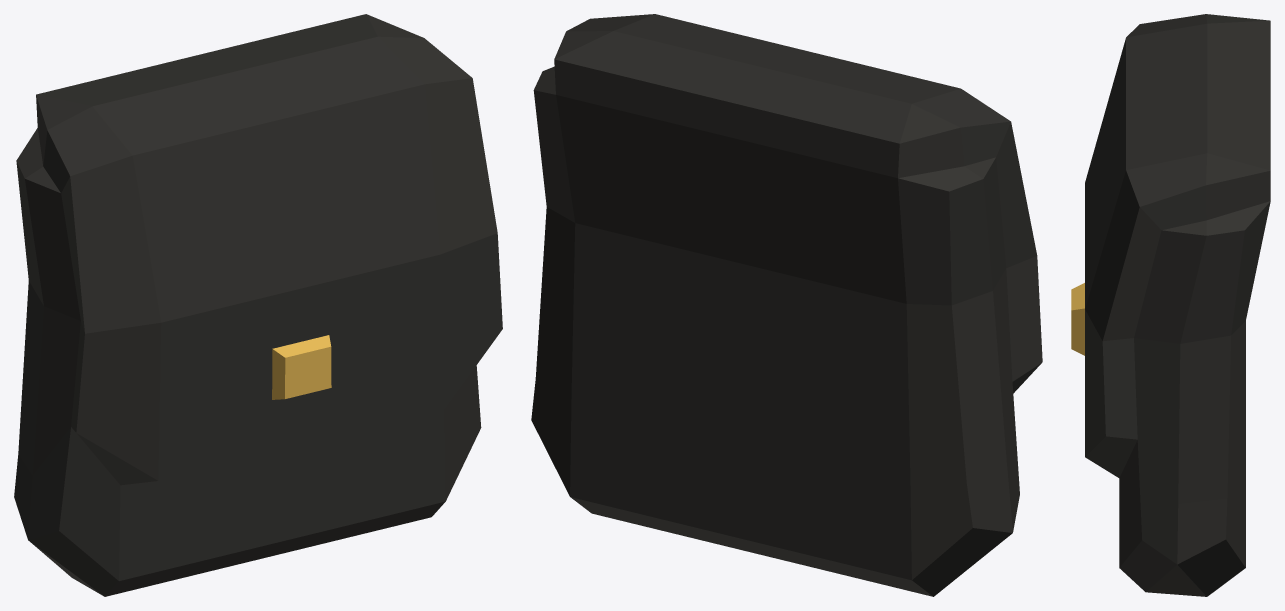
File: Bag_4.fbx
3 renders of one model, left to right at view 1: azimuth 30°, elevation 25°; view 2: azimuth 150°, elevation 25°; view 3: azimuth 270°, elevation 25°, orthographic. The views are drawn at different scales.
Parts seen in each view (by area): view 1: Bag_4; view 2: Bag_4; view 3: Bag_4.
Boxes of the visible parts, bbox=[...] form: Bag_4: bbox=[14, 14, 502, 596]; Bag_4: bbox=[531, 14, 1042, 596]; Bag_4: bbox=[1071, 14, 1270, 596].
Bounding box in the file's own units: 24.59 × 24.55 × 10.22.
